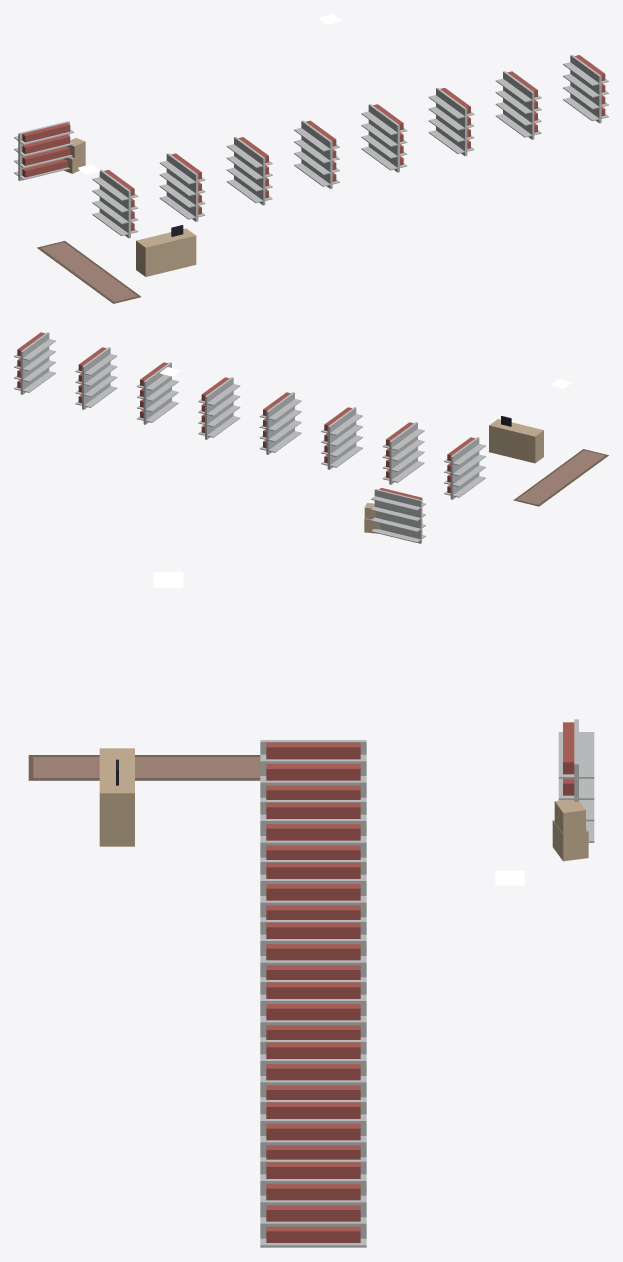
Rendered from fine-s0.glb.
3 views of the same model, one above another, from view 1: azimuth 30°, elevation 25°; view 2: azimuth 150°, elevation 25°; view 3: azimuth 270°, elevation 25° (orthographic). The views are drawn at different scales.
Visible parts, largest first — view 1: shelving.000, shop-counter.000, soft-s0, shelf.001, shelf.003, shelf.000, shelf.007, shelf.004, shelf.005, shelf.002, shelf.006, cardboard-box.000; view 2: shelving.000, shop-counter.000, soft-s0, shelf.004, shelf.006, shelf.000, shelf.002, shelf.007, shelf.001, shelf.003, shelf.005, cardboard-box.000; view 3: shelf.007, shelf.000, shelf.001, shelf.002, shelf.003, shelf.004, shelf.005, shelf.006, soft-s0, shop-counter.000, shelving.000, cardboard-box.000.
Boxes of the visible parts, x1,y1,x2,y2 form: shelving.000: (14,121,73,180); shop-counter.000: (136,225,196,276); soft-s0: (37,241,140,303); shelf.001: (159,153,205,221); shelf.003: (294,120,339,188); shelf.000: (92,169,138,238); shelf.007: (563,54,608,123); shelf.004: (361,104,407,172); shelf.005: (428,87,474,156); shelf.002: (226,137,272,205); shelf.006: (495,71,541,139); cardboard-box.000: (64,138,85,173); shelving.000: (371,488,425,543); shop-counter.000: (489,416,543,463); soft-s0: (513,449,608,506); shelf.004: (198,377,240,439); shelf.006: (75,347,117,409); shelf.000: (444,437,485,499); shelf.002: (321,407,362,469); shelf.007: (14,332,55,394); shelf.001: (382,422,424,484); shelf.003: (259,392,301,454); shelf.005: (137,362,178,424); cardboard-box.000: (364,503,380,533); shelf.007: (260,1159,366,1247); shelf.000: (260,740,366,799); shelf.001: (260,800,366,859); shelf.002: (260,860,366,919); shelf.003: (260,920,366,979); shelf.004: (260,980,366,1039); shelf.005: (260,1040,366,1099); shelf.006: (260,1100,366,1159); soft-s0: (28,755,260,780); shop-counter.000: (99,748,134,846); shelving.000: (558,719,594,842); cardboard-box.000: (552,800,588,861).
Size of the model in its own units: 19.94 by 3.54 by 9.57.
